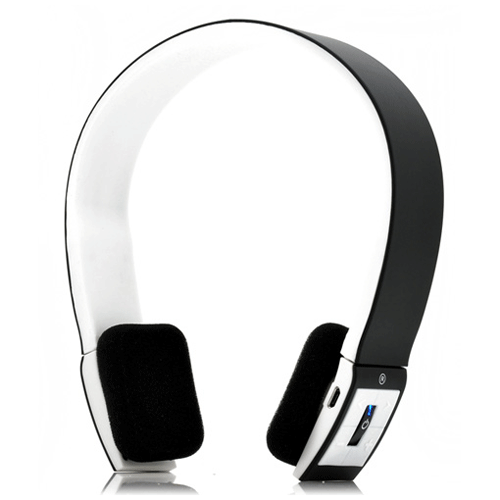Headphone: (38, 11, 453, 493)
